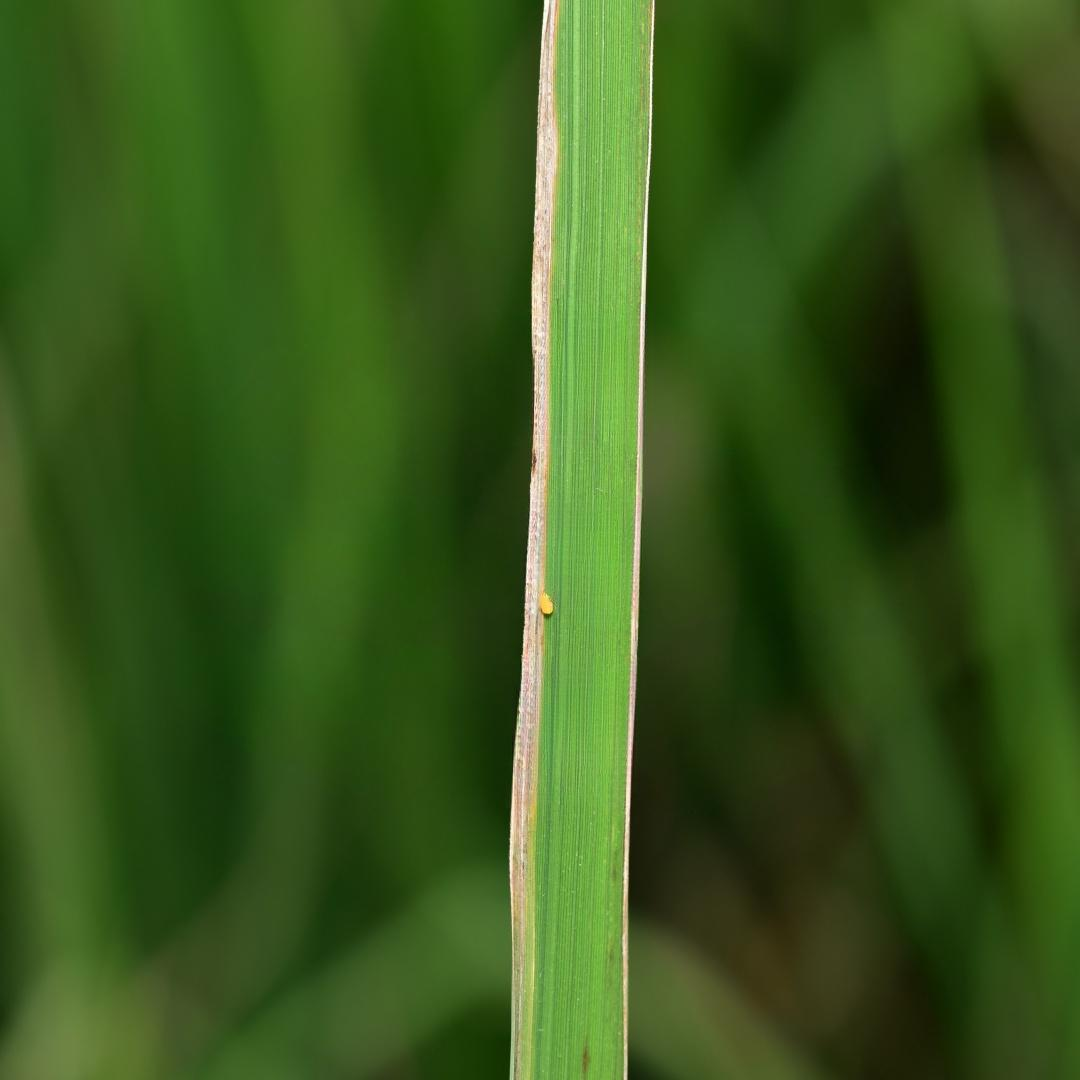BLB: (510, 0, 557, 1079)
